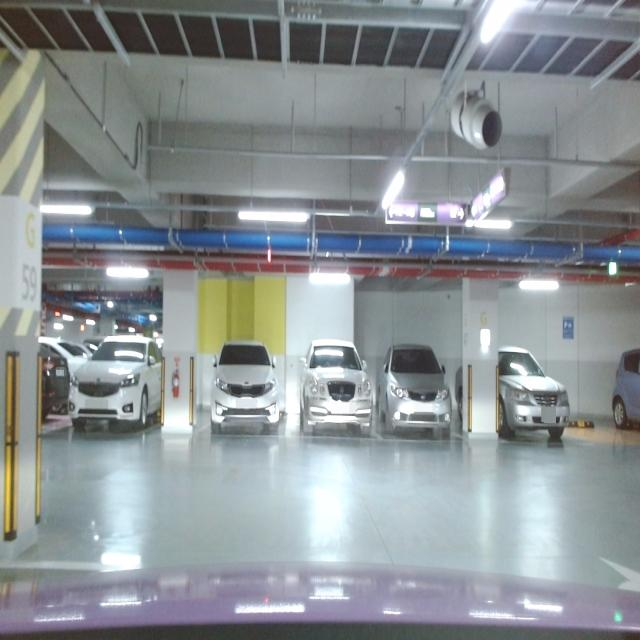empty: (578, 344, 638, 447)
occupied: (66, 338, 162, 427), (498, 350, 568, 453), (302, 350, 375, 444), (384, 349, 458, 438), (215, 349, 278, 438)
